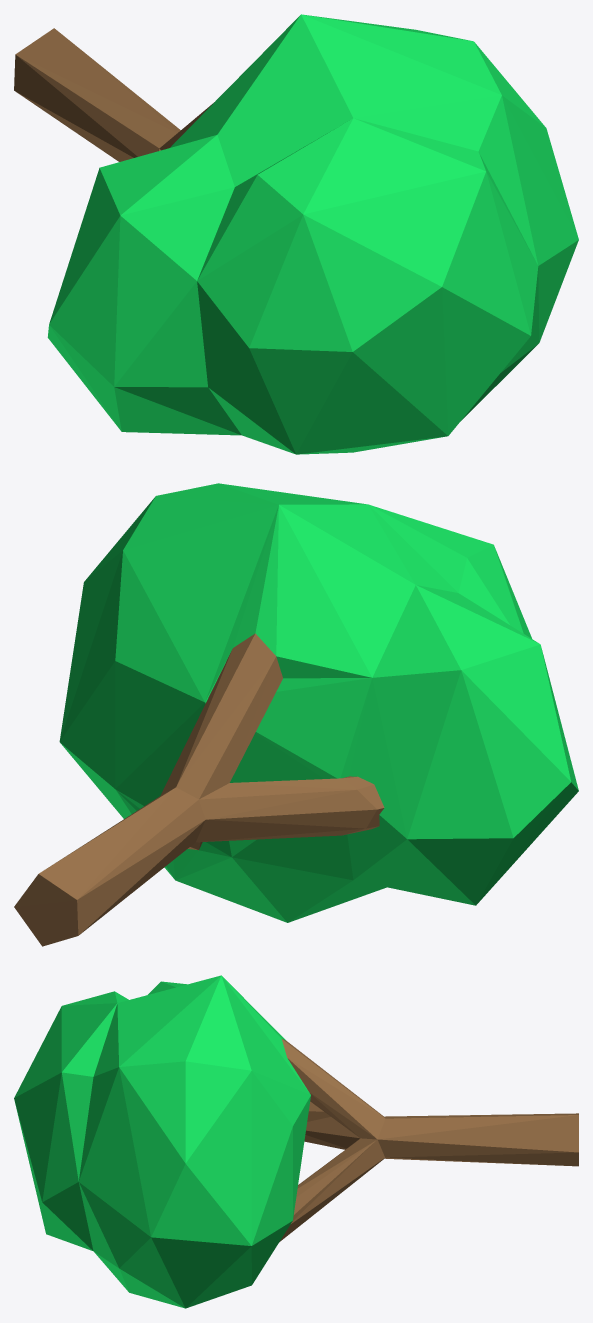
Rendered from tree.glb.
3 views of the same model, one above another, from view 1: azimuth 30°, elevation 25°; view 2: azimuth 150°, elevation 25°; view 3: azimuth 270°, elevation 25° (orthographic). The views are drawn at different scales.
Parts seen in each view (by area): view 1: Icosphere; view 2: Icosphere; view 3: Icosphere.
Part boxes in pixels (x1,y1,x2,y2): Icosphere: (14, 14, 578, 454); Icosphere: (14, 483, 578, 946); Icosphere: (14, 975, 578, 1308).
Bounding box in the file's own units: 811 × 651 × 1079.
Materials: 1 (1 with a texture image).
